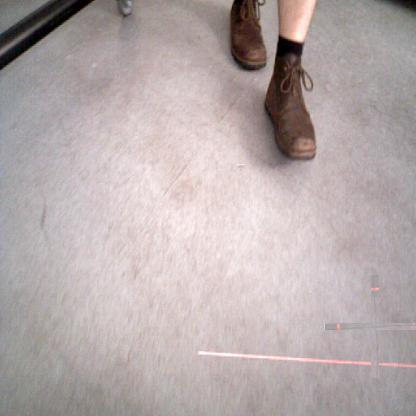mark: (348, 299, 403, 354), (39, 196, 49, 230), (237, 163, 244, 171)
